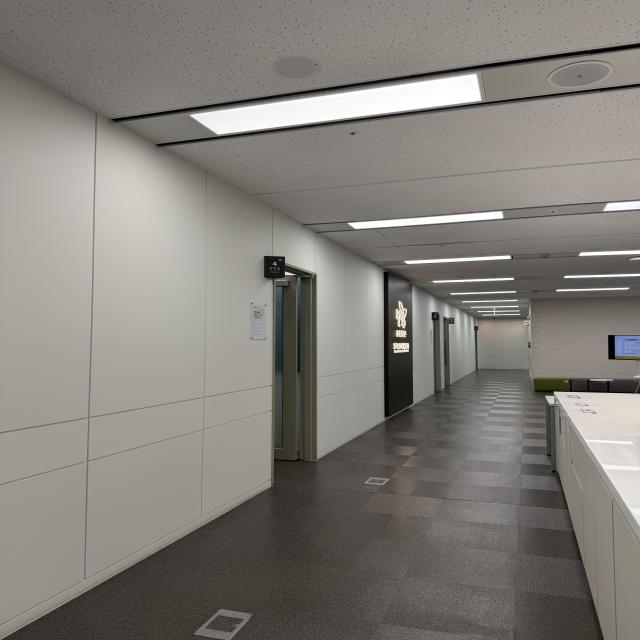room4: (264, 256, 285, 278)
